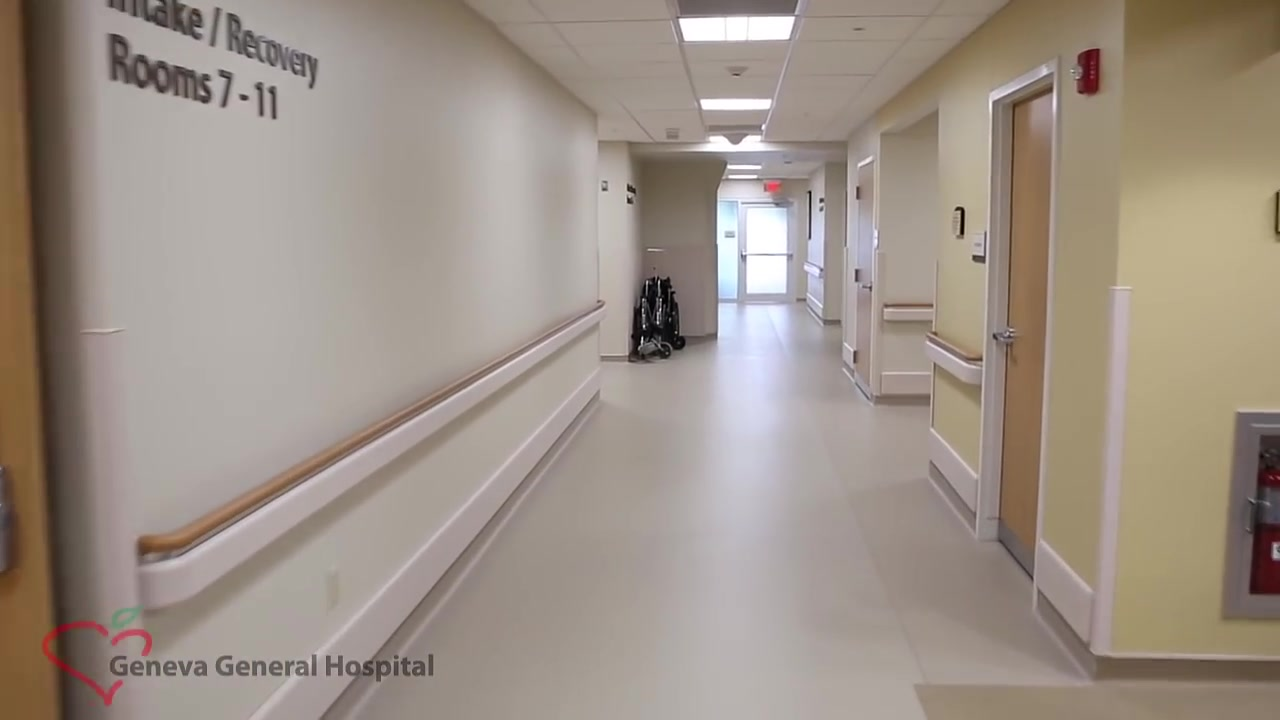door_handle: (991, 330, 1017, 345), (859, 283, 872, 292)
hallway_assist_bar: (134, 295, 605, 560), (925, 327, 984, 385), (882, 302, 935, 323), (803, 256, 826, 282)
push_latch: (737, 247, 793, 260)
wheel_chair: (634, 278, 686, 359)
